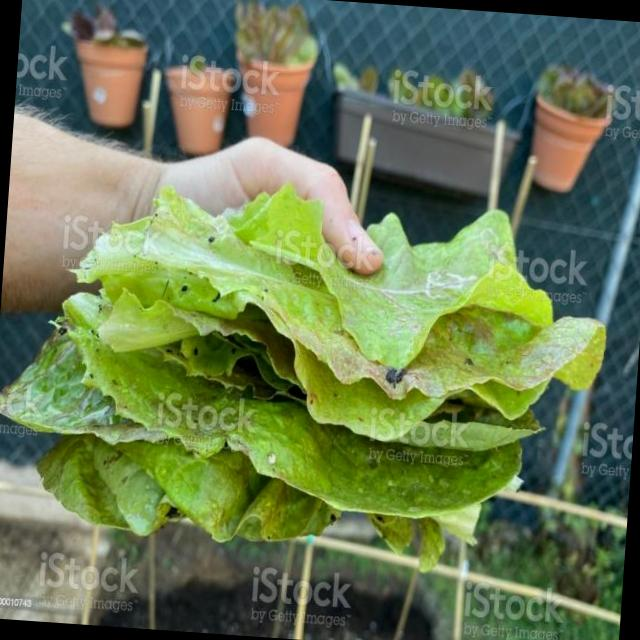Bacterial: (246, 260, 516, 488)
